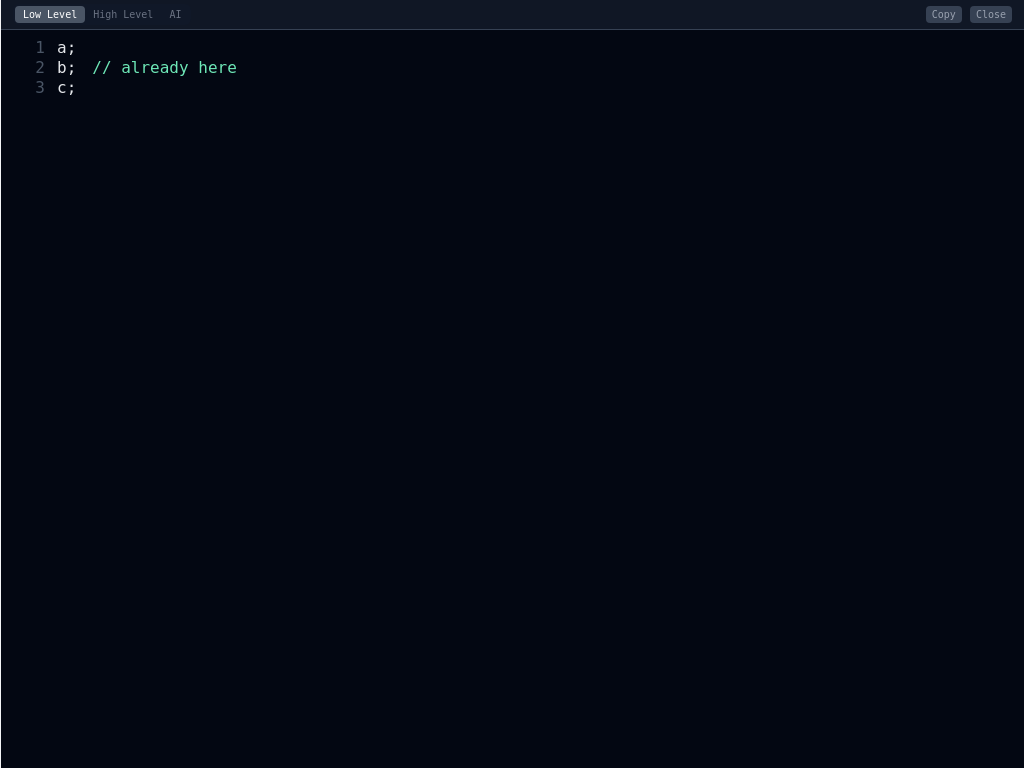
DecompileView context menu › says 'Edit comment' where one already exists
Right-click the button "2 b;// already here": {"x": 179, "y": 68} [13, 58, 1012, 78]
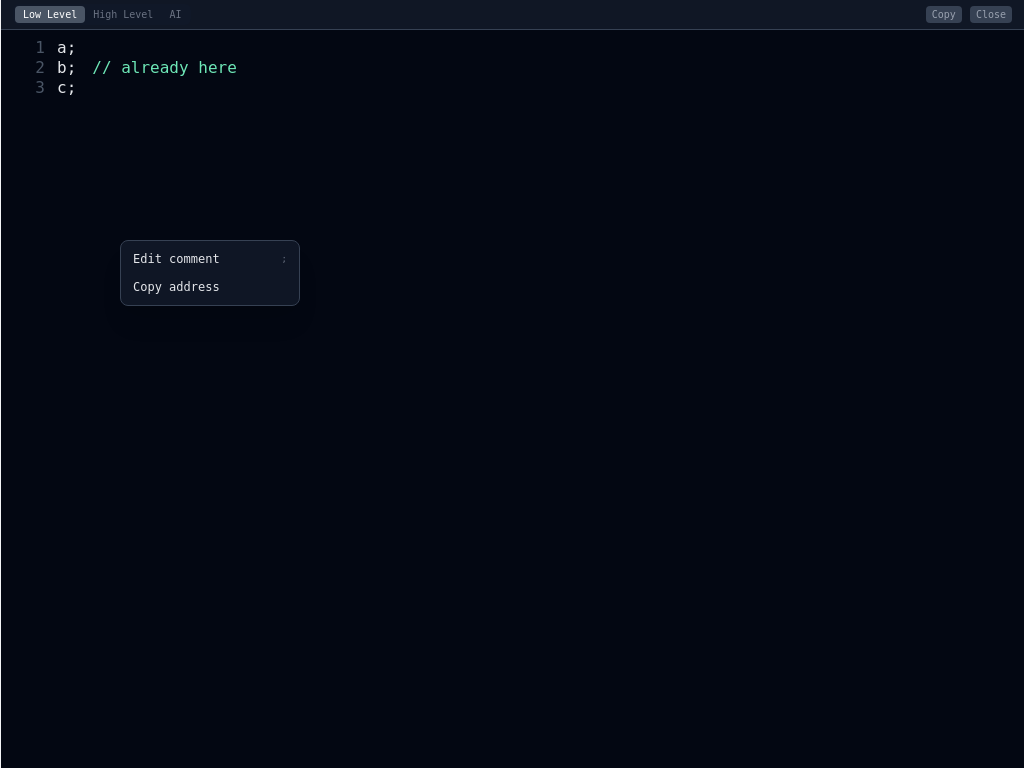
expect the text "Edit comment" is shown: met, box [133, 251, 220, 267]
